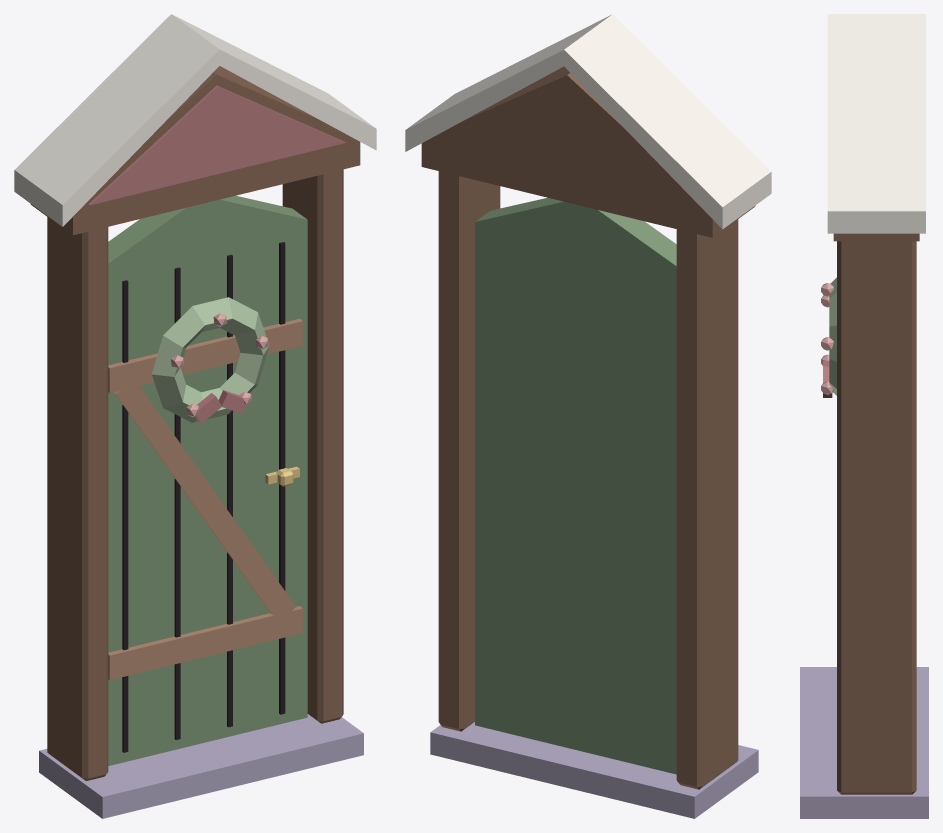
Rendered from sb_workshop_door.glb.
The picture shows the model from 3 angles, left to right: view 1: azimuth 30°, elevation 25°; view 2: azimuth 150°, elevation 25°; view 3: azimuth 270°, elevation 25°; orthographic projection.
Visible parts, largest first — view 1: workshop_door; view 2: workshop_door; view 3: workshop_door.
Boxes of the visible parts, x1=… form: workshop_door: x1=14, y1=14, x2=376, y2=818; workshop_door: x1=405, y1=14, x2=771, y2=818; workshop_door: x1=800, y1=14, x2=928, y2=818.
Bounding box in the file's own units: 1.2 × 2.66 × 0.42.
